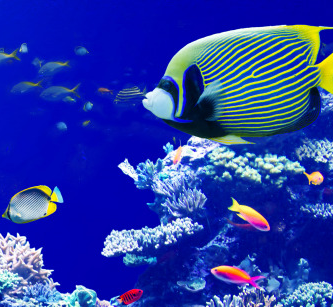fishLarge: (39, 84, 80, 101), (37, 59, 71, 78), (9, 80, 43, 96), (0, 47, 20, 64)
fishRound: (142, 23, 332, 145), (1, 184, 63, 226), (228, 196, 270, 232), (116, 287, 144, 305)
fishSmall: (210, 263, 267, 290), (113, 85, 147, 108), (303, 170, 324, 186)
